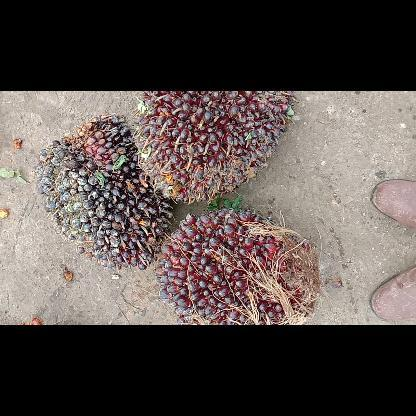Kurang masak: (157, 212, 317, 324), (134, 90, 292, 200)
TBS mentah: (36, 114, 170, 270)
